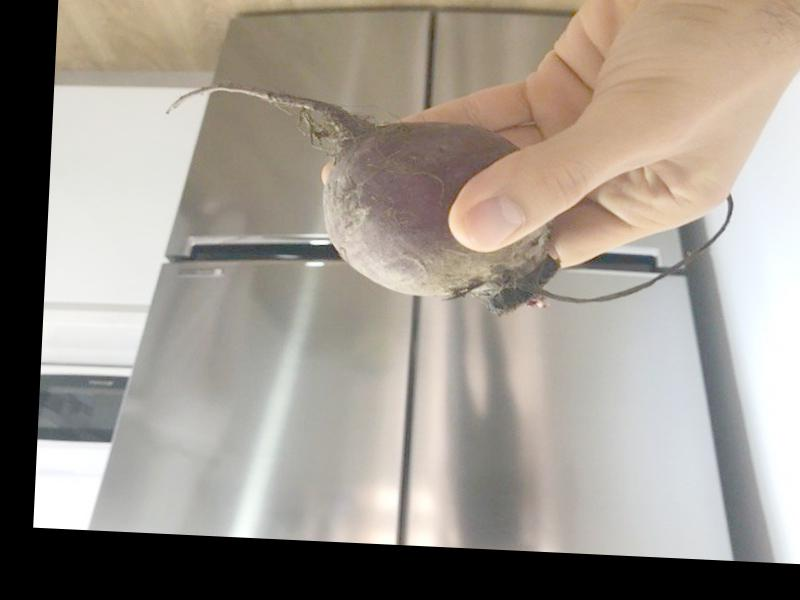Beet: (152, 81, 737, 321)
